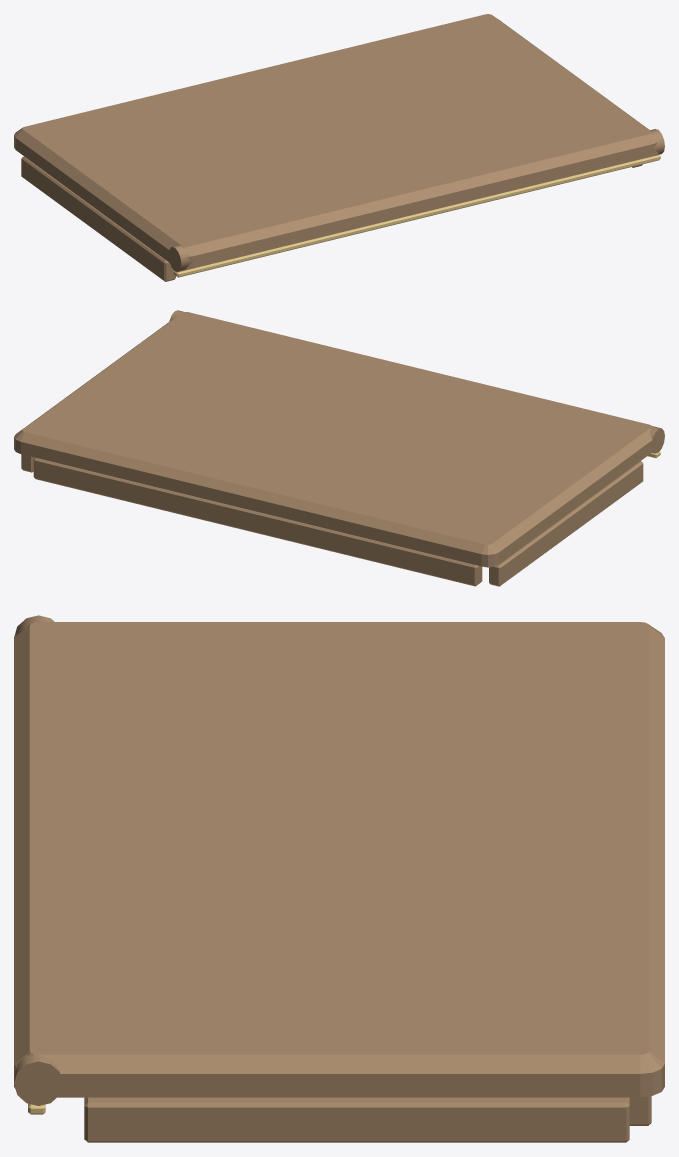
File: bar-pub-and-brewery-taproom-bar-top-bullnose-57bd5b81__18325.glb
3 renders of one model, top to bottom at view 1: azimuth 30°, elevation 25°; view 2: azimuth 150°, elevation 25°; view 3: azimuth 270°, elevation 25°, orthographic. The views are drawn at different scales.
Parts seen in each view (by area): view 1: bar-top-bullnose; view 2: bar-top-bullnose; view 3: bar-top-bullnose.
Part boxes in pixels (x1,y1,x2,y2): bar-top-bullnose: (14,14,664,281); bar-top-bullnose: (14,310,664,586); bar-top-bullnose: (14,615,664,1142).
Bounding box in the file's own units: 1.2 × 0.1061 × 0.74.
